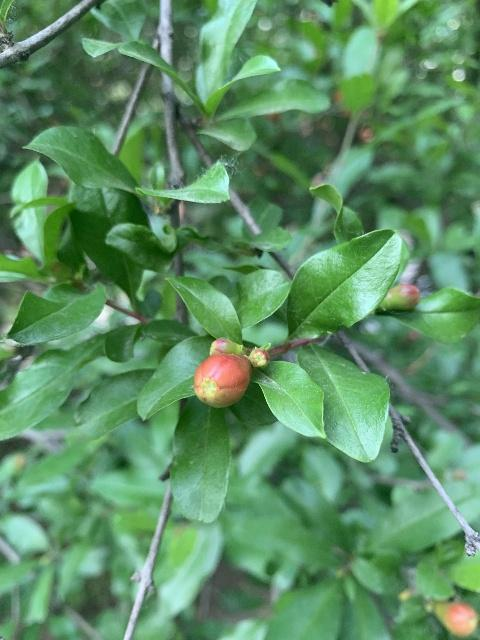bud: (193, 352, 252, 407), (379, 283, 421, 310), (208, 337, 242, 355), (250, 347, 270, 369)
